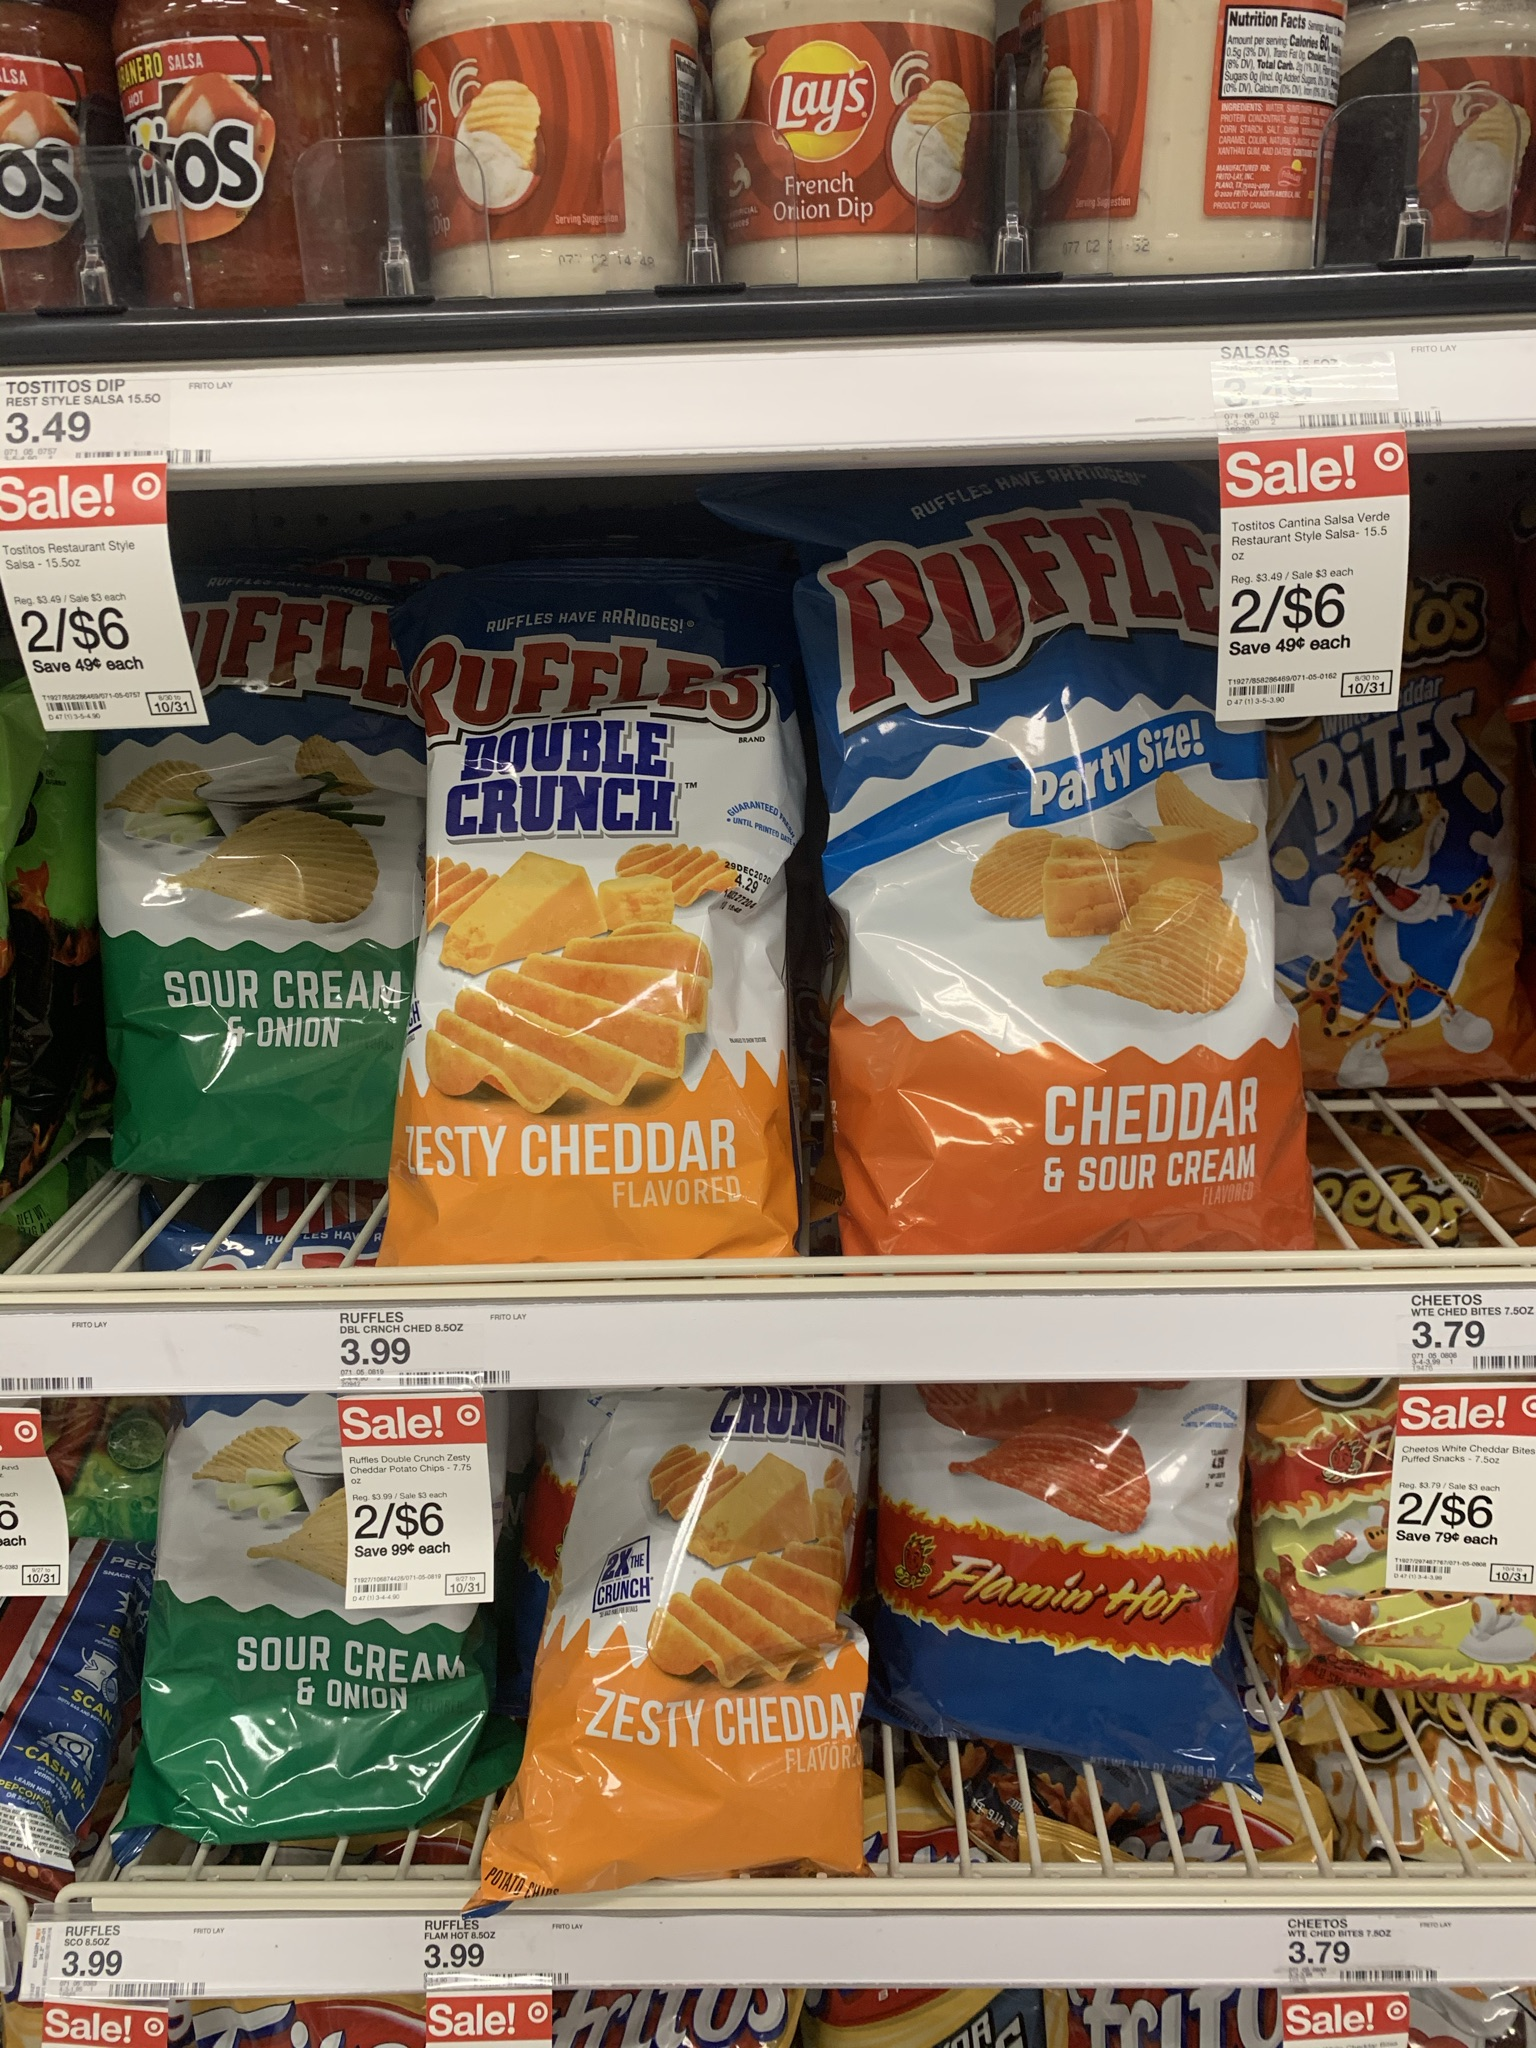ruffles chips: (808, 529, 1292, 1206), (457, 601, 808, 1305)
ruffles chips\: (157, 619, 442, 1185)
